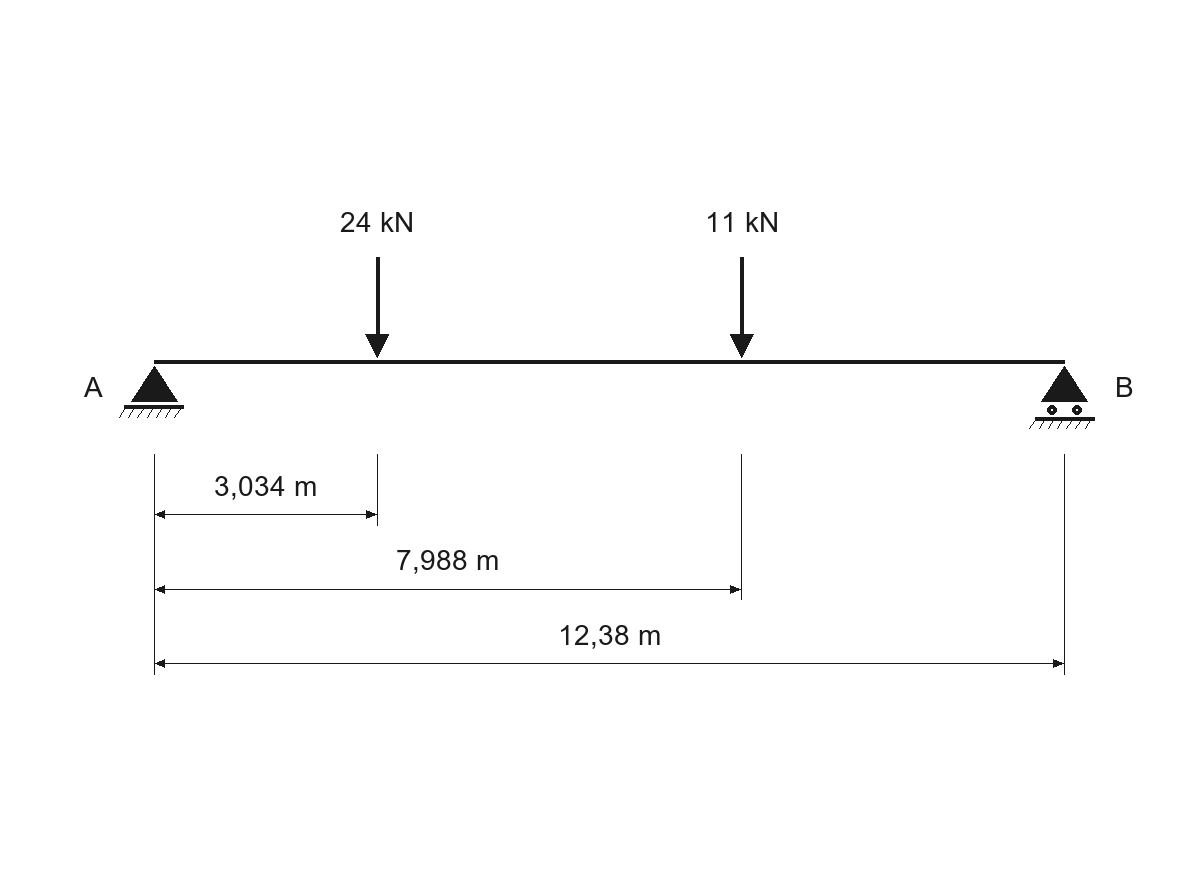pin_support: (119, 366, 184, 418)
point_load: (365, 257, 389, 358), (730, 257, 754, 358)
roller_support: (1029, 366, 1095, 429)
